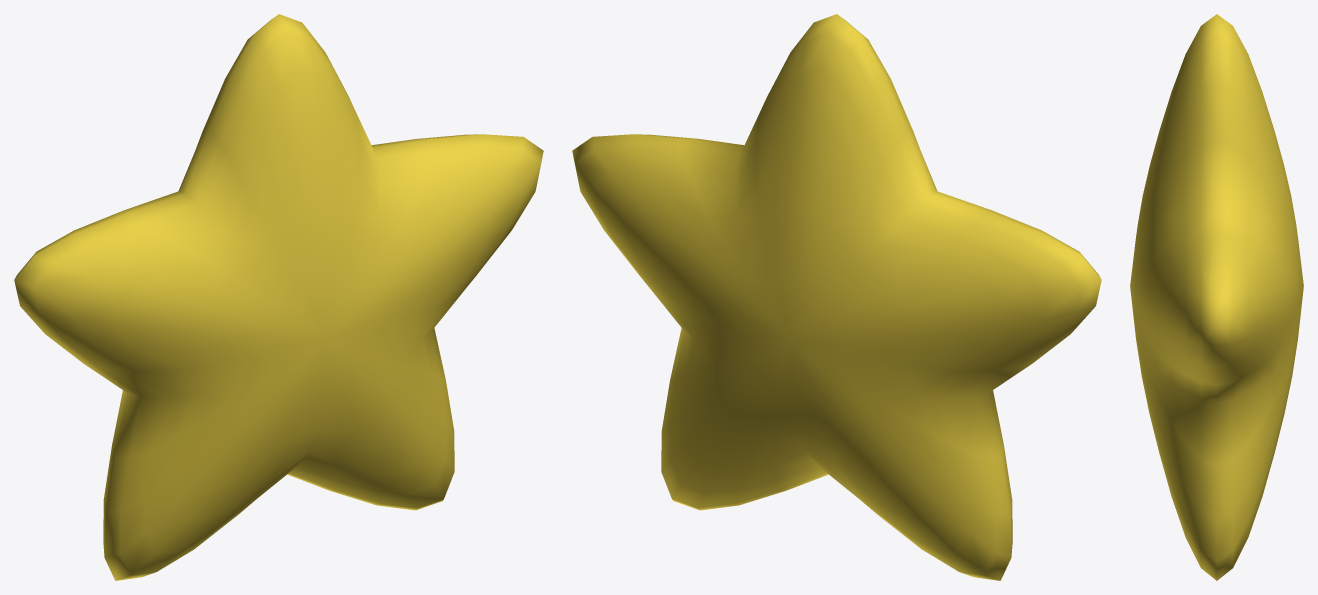
File: starPickup.fbx
3 views of the same model, side by side, from view 1: azimuth 30°, elevation 25°; view 2: azimuth 150°, elevation 25°; view 3: azimuth 270°, elevation 25° (orthographic). The views are drawn at different scales.
Visible parts, largest first — view 1: Cylinder; view 2: Cylinder; view 3: Cylinder.
Part boxes in pixels (x1,y1,x2,y2): Cylinder: [14, 14, 543, 580]; Cylinder: [572, 14, 1101, 580]; Cylinder: [1130, 14, 1303, 580].
Bounding box in the file's own units: 125 × 120 × 38.07.
